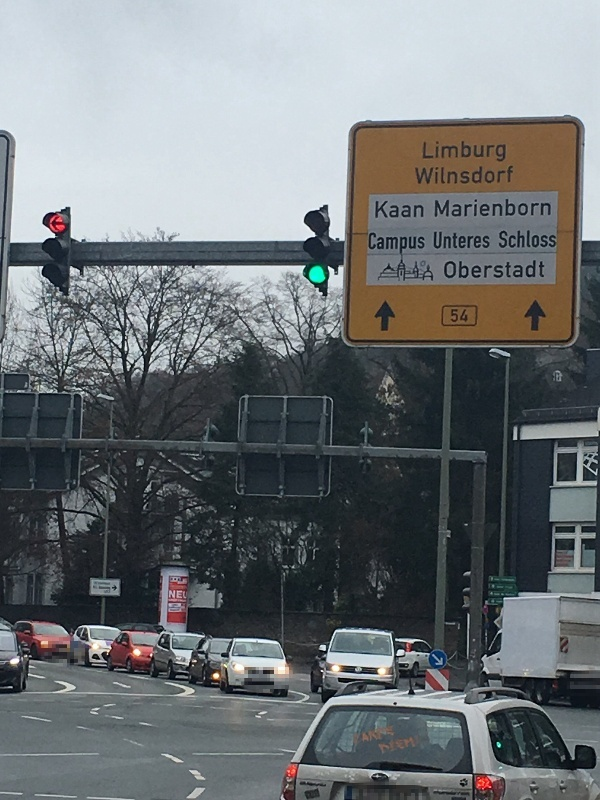text: (433, 141, 448, 163), (449, 141, 464, 163), (465, 141, 480, 163), (481, 141, 496, 163), (369, 233, 384, 254), (385, 233, 400, 254), (401, 233, 416, 254), (529, 260, 545, 279), (497, 165, 513, 184), (369, 726, 384, 746), (385, 200, 400, 219), (401, 200, 416, 219), (449, 260, 464, 279), (465, 260, 480, 279), (481, 260, 496, 279), (497, 260, 512, 279), (513, 260, 528, 279), (417, 165, 432, 184), (433, 165, 448, 184), (449, 165, 464, 184), (465, 165, 480, 184), (481, 165, 496, 184), (354, 726, 368, 746), (385, 737, 400, 755), (401, 737, 416, 755), (449, 232, 464, 250), (465, 232, 480, 250), (513, 231, 528, 249), (529, 231, 544, 249), (449, 200, 464, 217), (465, 200, 480, 217), (481, 200, 496, 217), (497, 200, 512, 217), (513, 200, 528, 217), (529, 200, 544, 217), (434, 232, 448, 250), (499, 231, 512, 249), (435, 200, 448, 217), (385, 726, 395, 746), (545, 231, 556, 249), (497, 141, 506, 163), (424, 141, 432, 163), (417, 233, 425, 254), (481, 232, 490, 250), (452, 309, 464, 322), (376, 200, 384, 219), (417, 200, 424, 219), (177, 590, 188, 600), (378, 737, 384, 755), (545, 200, 551, 217), (444, 260, 448, 279), (170, 590, 176, 600), (465, 309, 468, 322), (415, 165, 416, 184)
